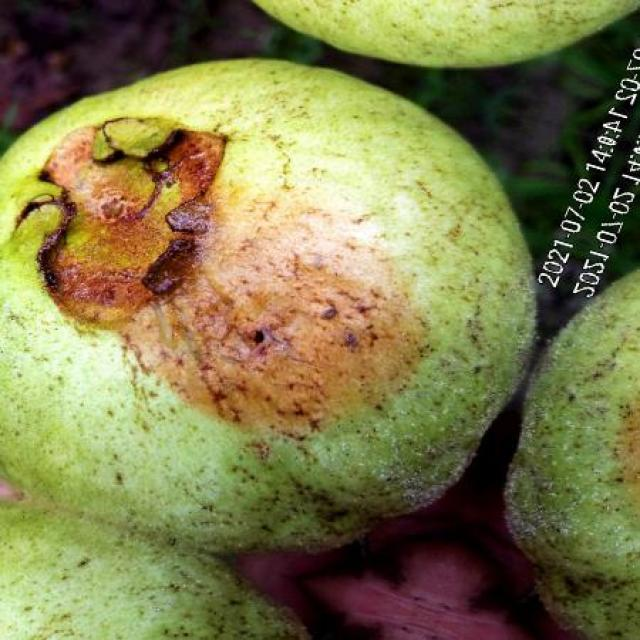Styler and Root: (0, 61, 532, 551)
